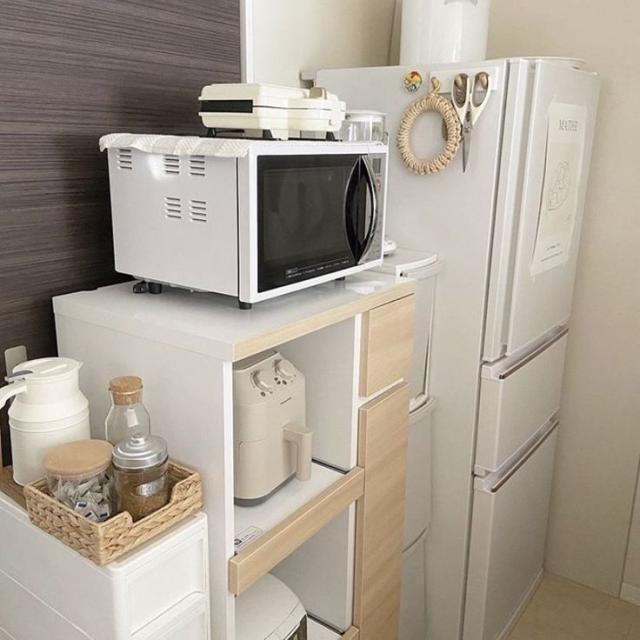obstacle: (309, 56, 601, 638), (48, 254, 430, 638)
